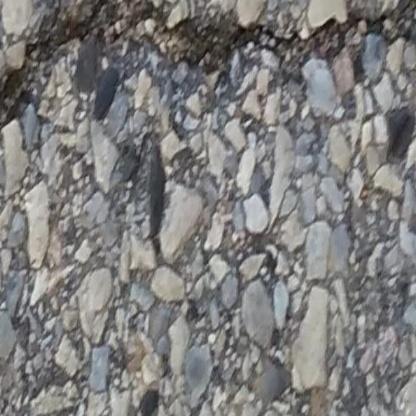Cracks: (0, 0, 416, 162)
